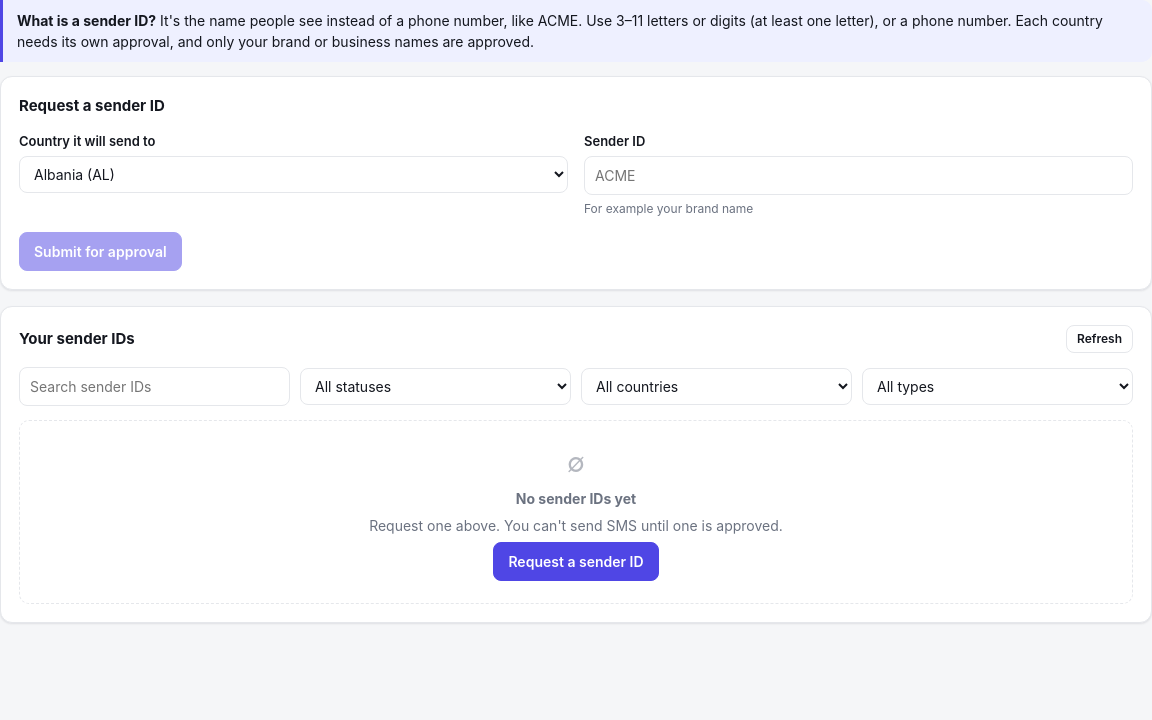
request form and field errors › 18b domain code invalid_sender is shown on the Sender ID field
Type "!!!" into the field labelled "Sender ID For example your brand name" at (858, 176), box [584,156,1133,195]
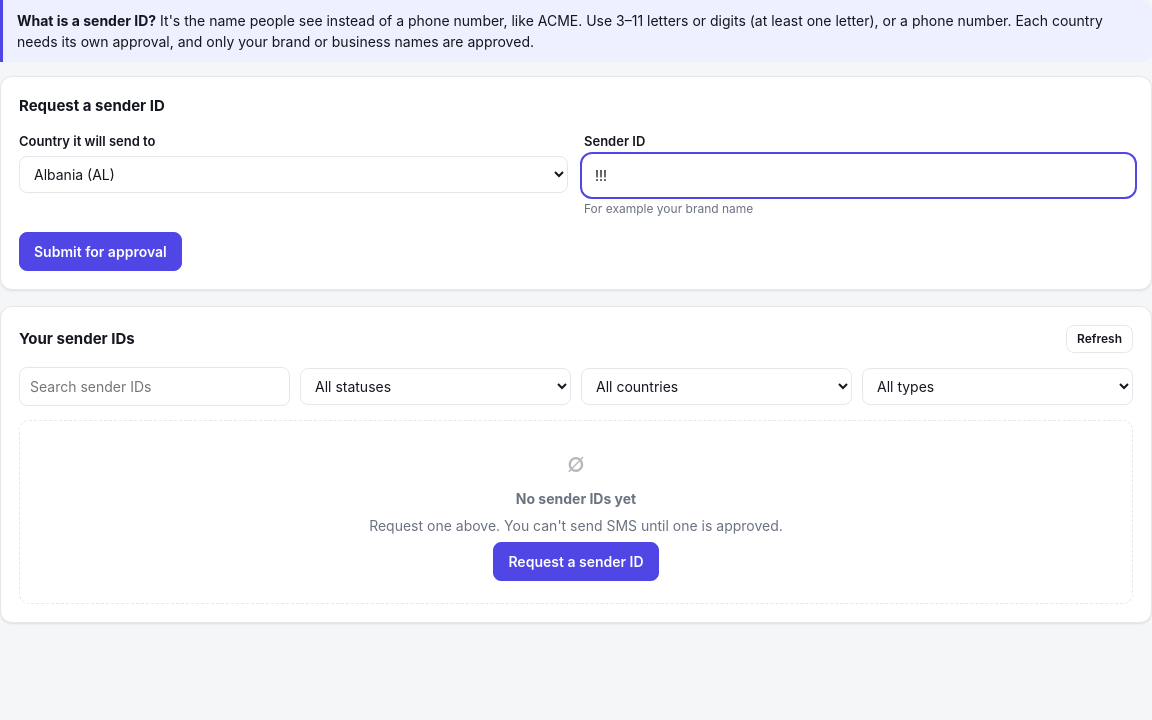
Click the button "Submit for approval" at (100, 252), box [19,232,182,271]
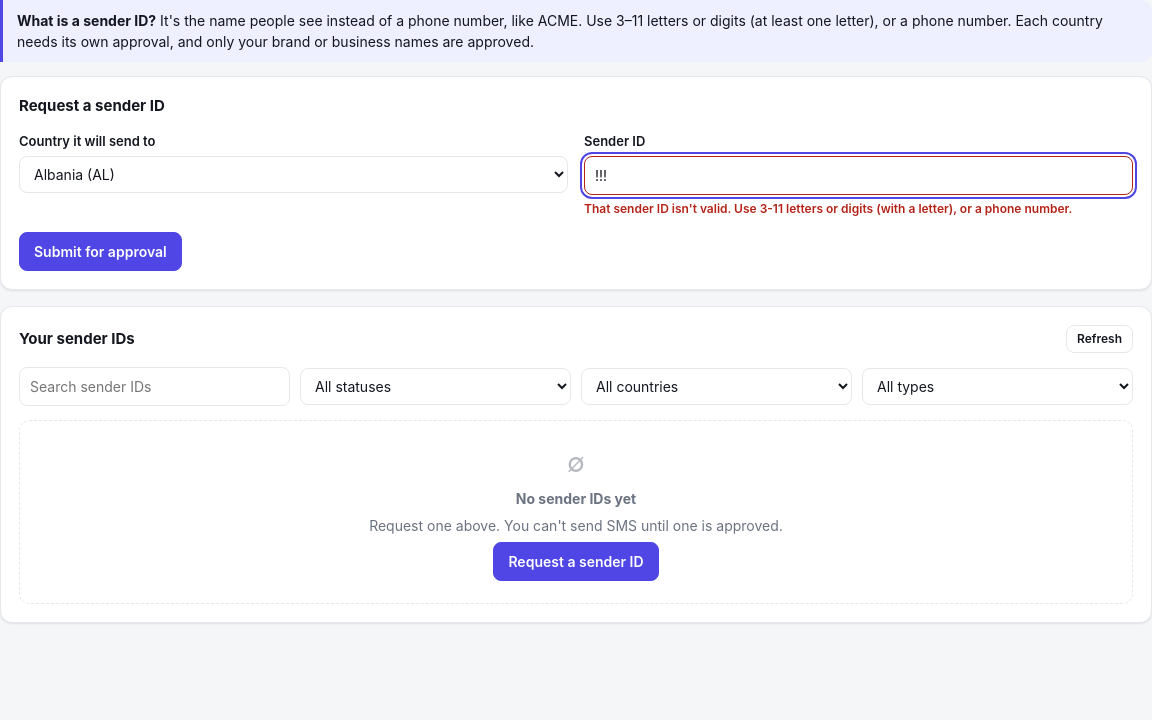
Now the text "isn't valid" is shown, box [584,201,1072,216]
